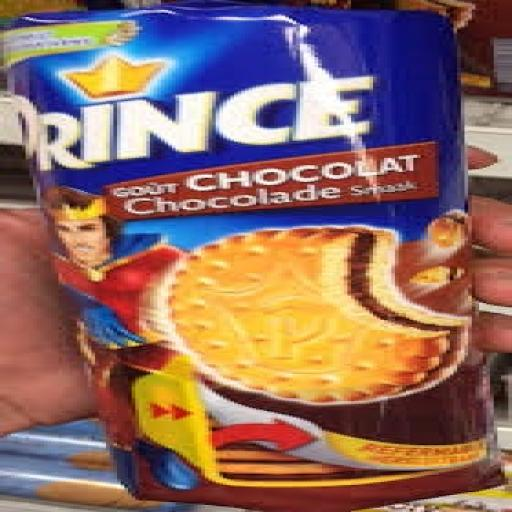prince: (3, 8, 512, 512)
